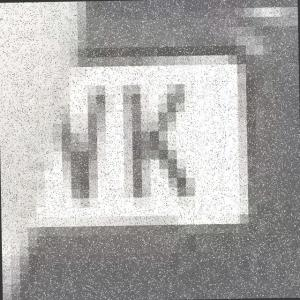Plate: (40, 28, 256, 232)
